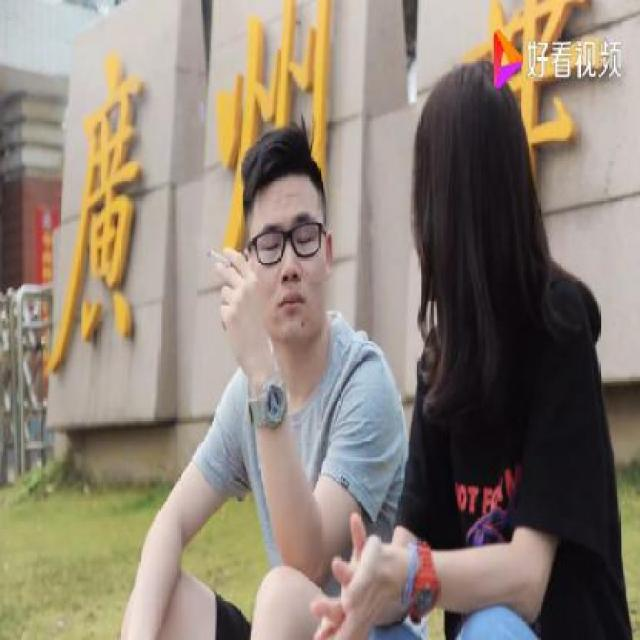cigarette: (205, 240, 240, 278)
